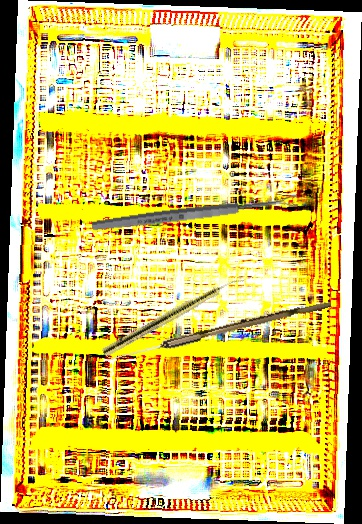Handpiece: (101, 270, 247, 360)
Surgical Spoon: (103, 296, 332, 367), (91, 193, 299, 234)
